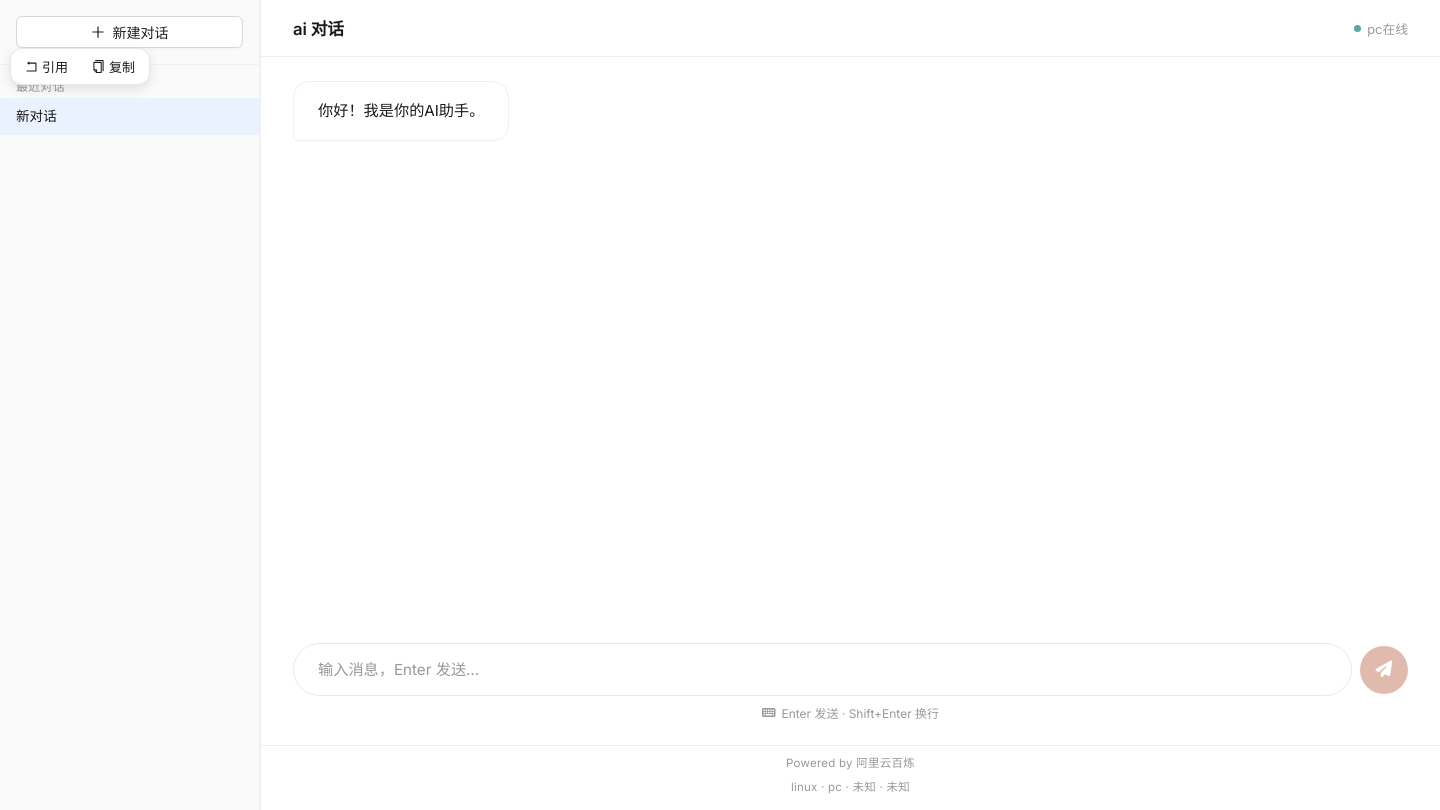
it: App 选区引用与复制 › 发送时引用作为独立消息项随请求发送并在发送后清空
Step 1. Click the button "引用" → (46, 66), box [15,53,78,80]
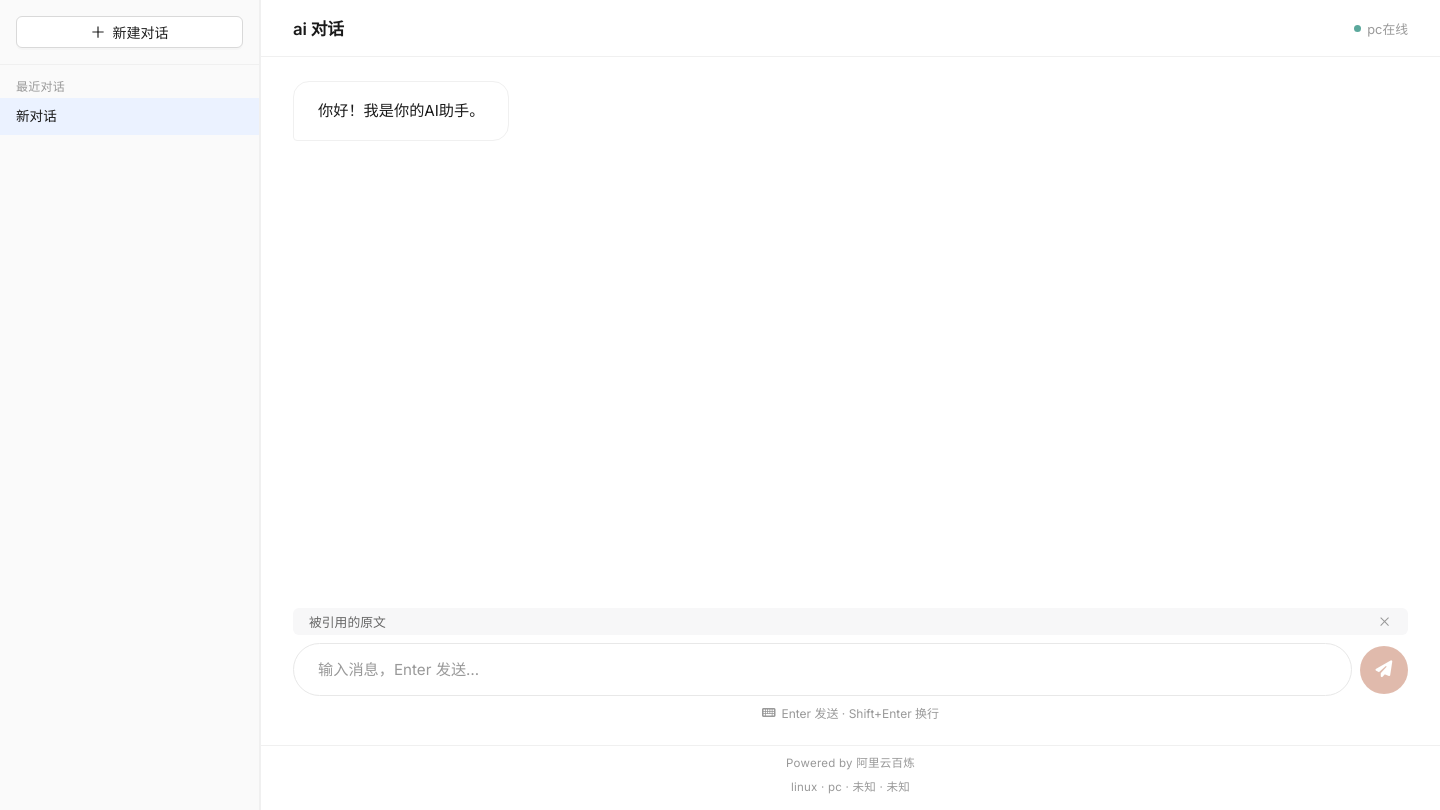
Step 2. Type "帮我解释" into the field named "聊天输入框" → (822, 670), box [293,643,1352,696]
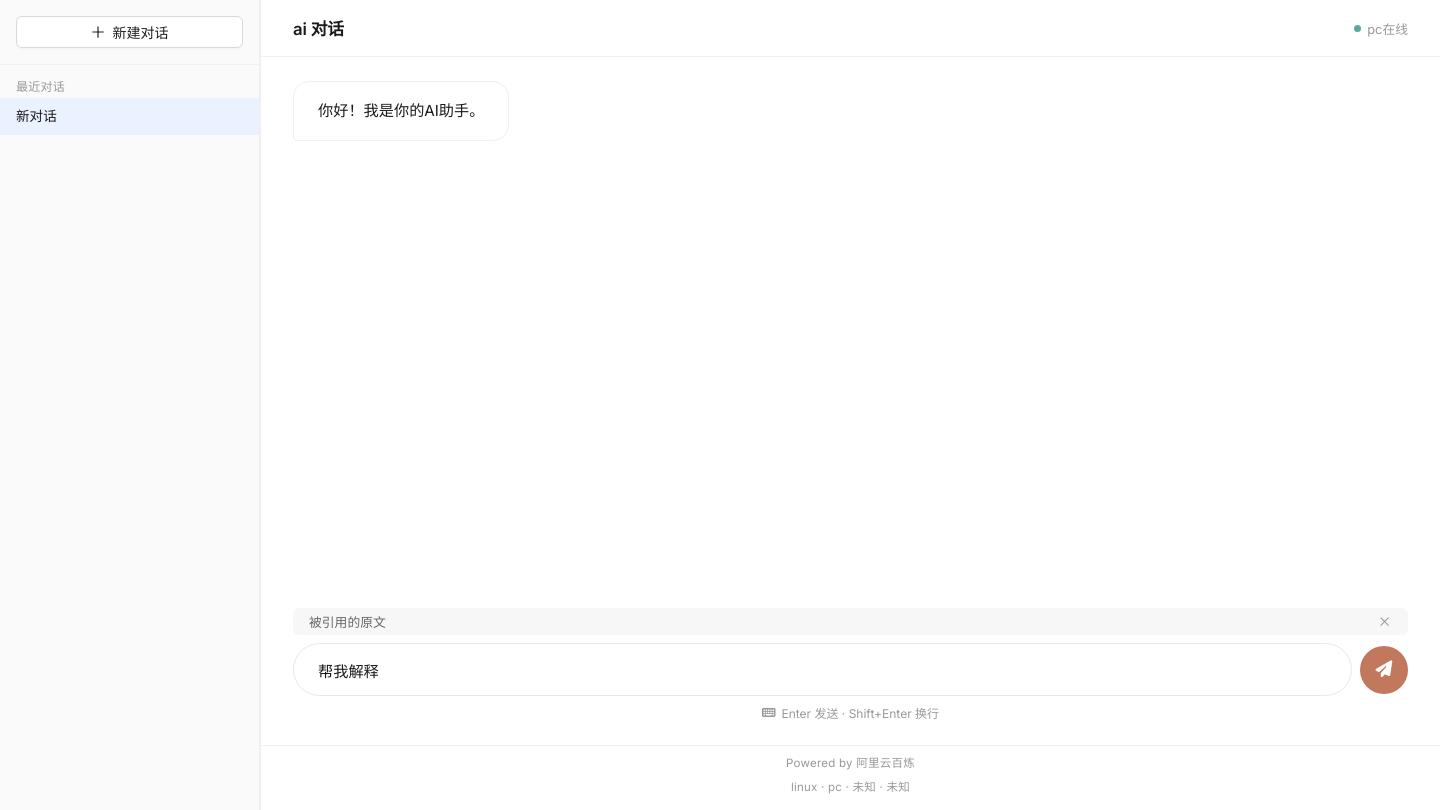
Step 3. Click the button named "发送消息" → (1384, 670), box [1360,646,1408,694]
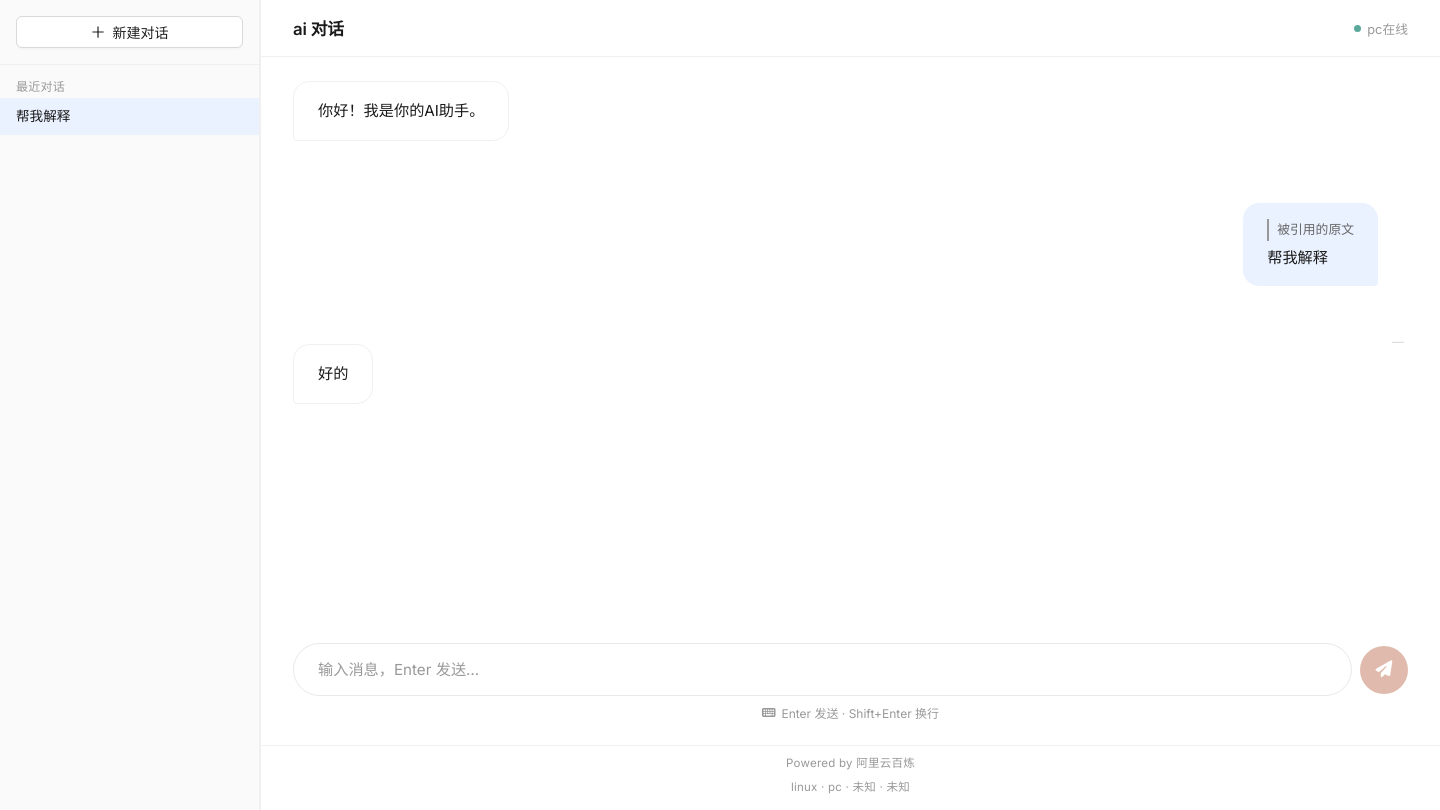
Result: the button "关闭引用" is gone
